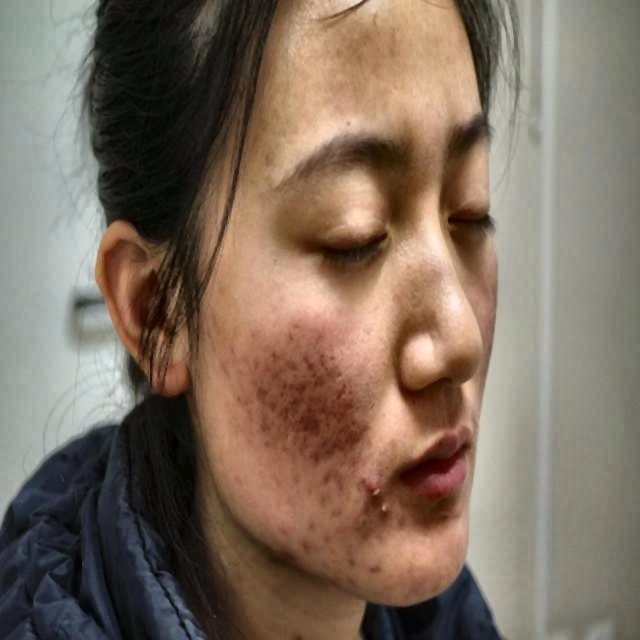pustule: (352, 462, 378, 495), (329, 384, 349, 411), (301, 415, 321, 441), (340, 552, 361, 576), (301, 529, 320, 552), (369, 557, 386, 581), (376, 501, 392, 524), (256, 379, 272, 399)
